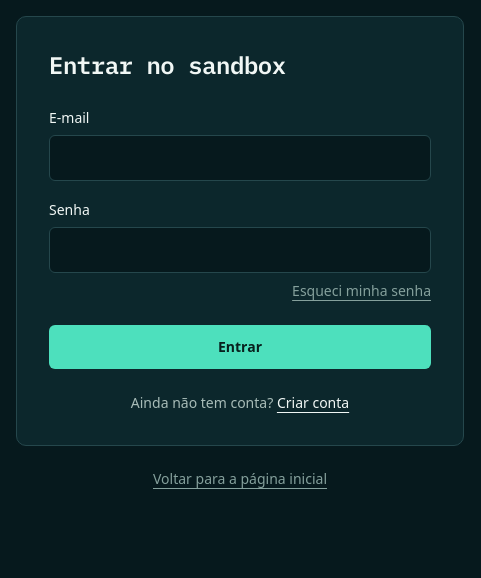
Test: Login › shows the error notice when sign in fails
Type "a@b.dev" into the field labelled "E-mail" at (240, 158), box [49,135,431,181]
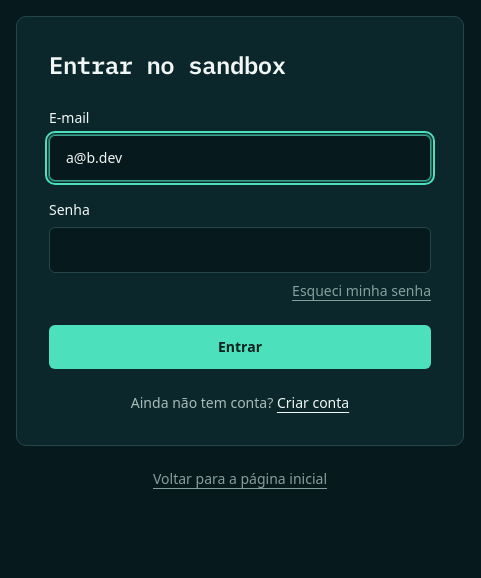
Type "secret123" into the password field labelled "Senha" at (240, 250), box [49,227,431,273]
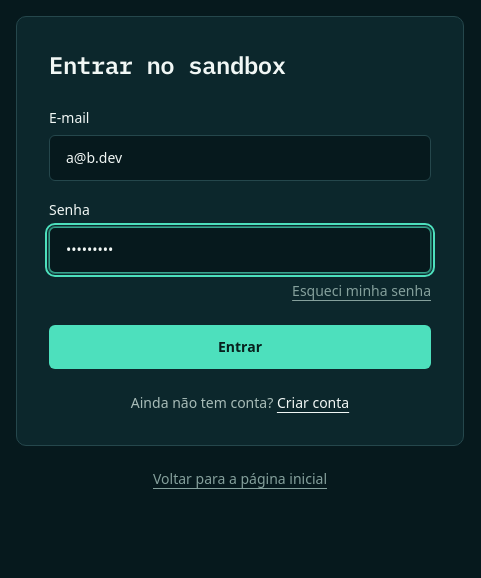
Click the button "Entrar" at (240, 347), box [49,325,431,369]
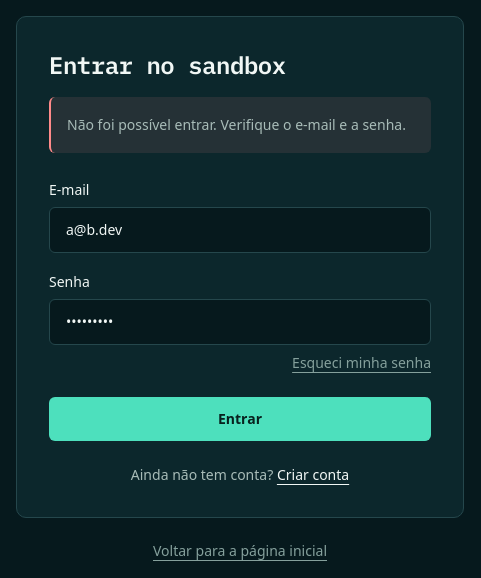
Check: the text "Não foi possível entrar. Verifique o e-mail e a senha." is shown, box [49,97,431,153]
